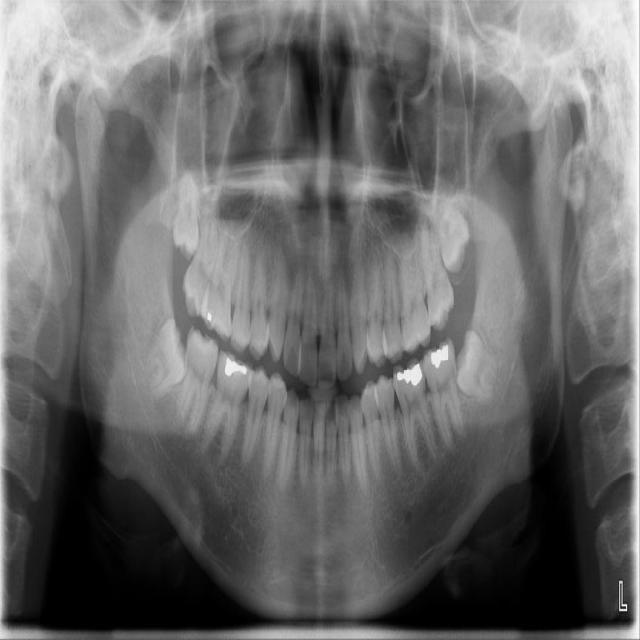Filling: (426, 344, 453, 367), (396, 365, 423, 386), (223, 358, 248, 378), (203, 307, 216, 327)
impacted tooth: (420, 193, 472, 268), (137, 321, 185, 399), (453, 330, 504, 397), (170, 173, 202, 250)
